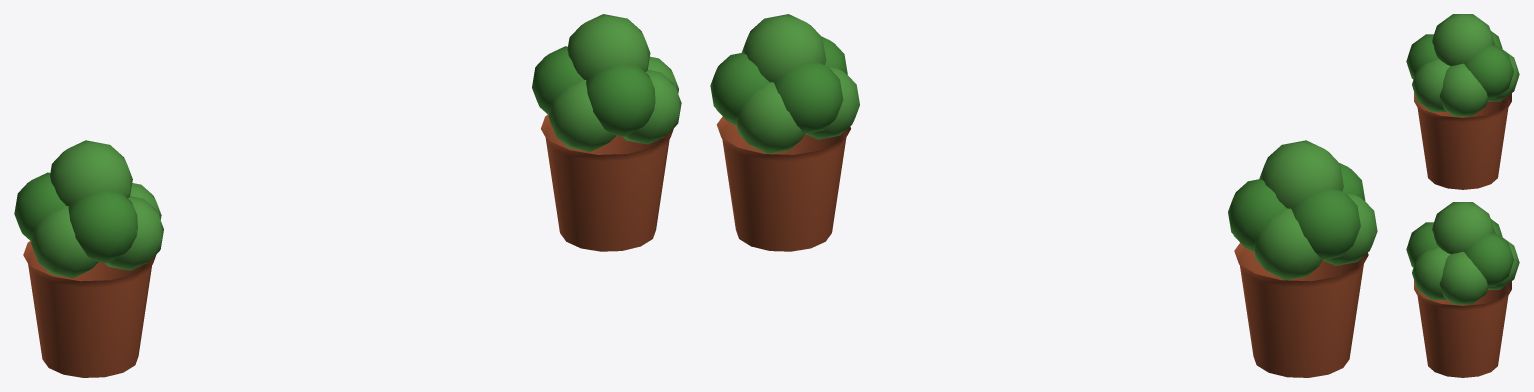
The model's file is house_plants.glb.
3 views of the same model, side by side, from view 1: azimuth 30°, elevation 25°; view 2: azimuth 150°, elevation 25°; view 3: azimuth 270°, elevation 25° (orthographic). The views are drawn at different scales.
Parts seen in each view (by area): view 1: house_plants_main; view 2: house_plants_main; view 3: house_plants_main.
Part boxes in pixels (x1,y1,x2,y2): house_plants_main: (14, 14, 681, 377); house_plants_main: (710, 14, 1377, 377); house_plants_main: (1406, 14, 1519, 377).
Bounding box in the file's own units: 1.54 × 0.49 × 0.316.
